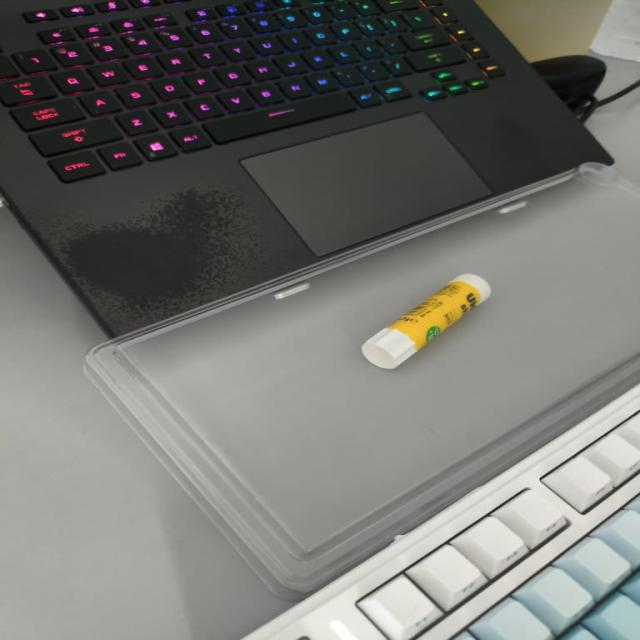glue: (362, 274, 490, 369)
